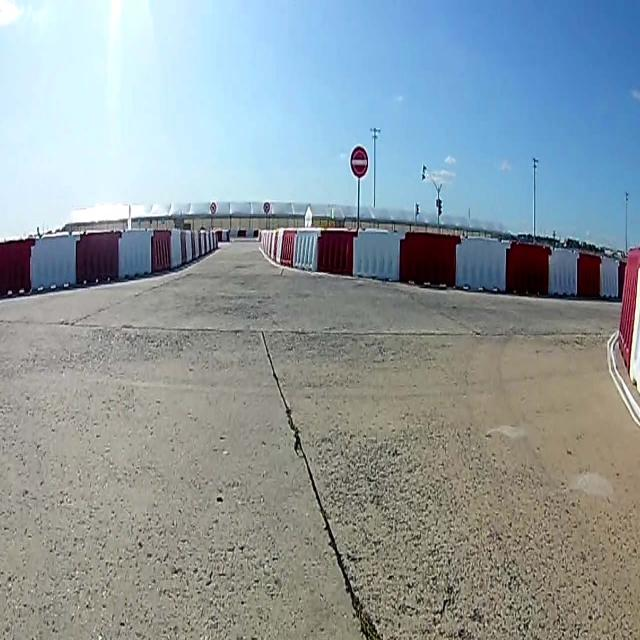girisyok: (350, 146, 368, 178)
